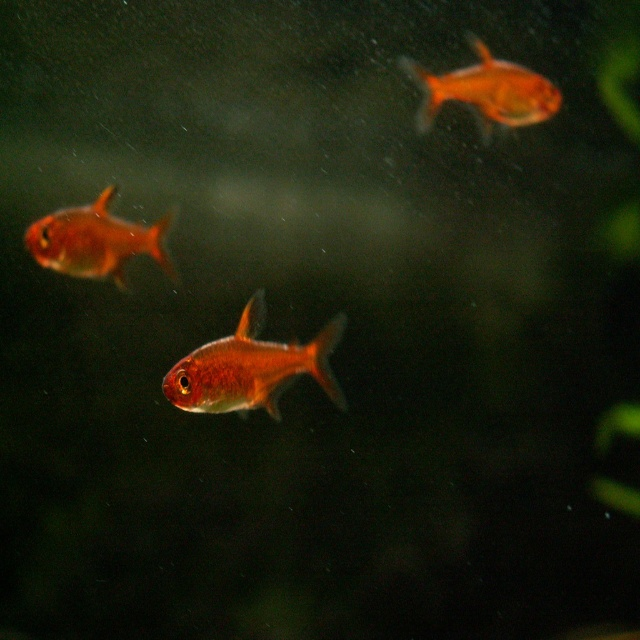Goldfish: (161, 283, 340, 415), (24, 181, 176, 286), (412, 29, 565, 125)
